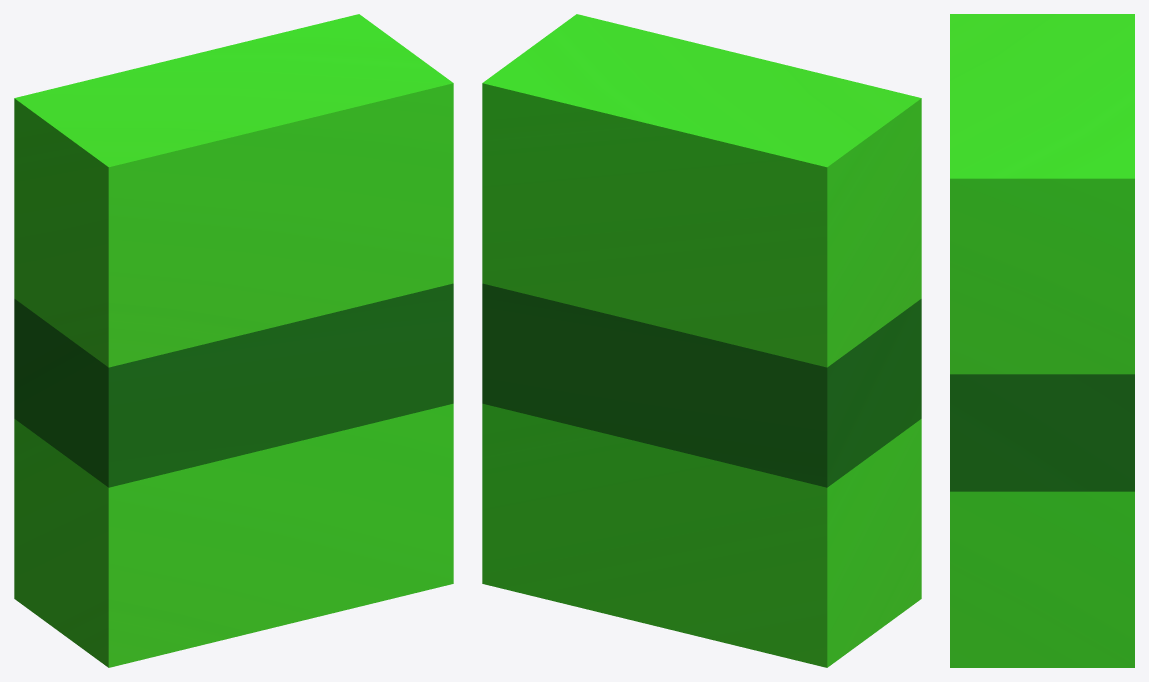
Rendered from Ürün1.fbx.
3 renders of one model, left to right at view 1: azimuth 30°, elevation 25°; view 2: azimuth 150°, elevation 25°; view 3: azimuth 270°, elevation 25°, orthographic. The views are drawn at different scales.
Visible parts, largest first — view 1: Ürün1; view 2: Ürün1; view 3: Ürün1.
Part boxes in pixels (x1,y1,x2,y2): Ürün1: (14, 14, 453, 667); Ürün1: (482, 14, 921, 667); Ürün1: (950, 14, 1134, 667).
Size of the model in its own units: 23.51 by 32.6 by 11.16.
